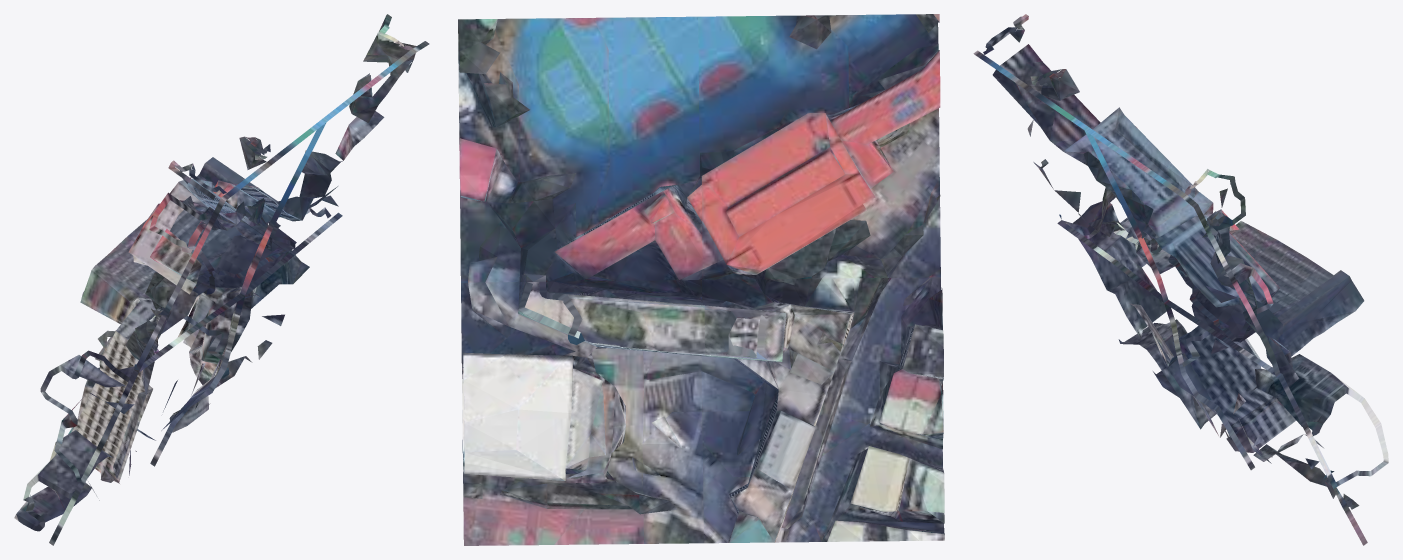
3 views of the same model, side by side, from view 1: azimuth 30°, elevation 25°; view 2: azimuth 150°, elevation 25°; view 3: azimuth 270°, elevation 25° (orthographic). The views are drawn at different scales.
Size of the model in its own units: 159 by 148 by 136.
Materials: 1 (1 with a texture image).
